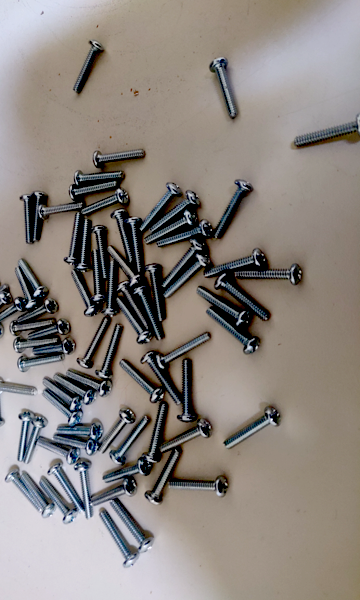longscrew: (206, 306, 260, 352), (226, 409, 283, 452), (159, 421, 216, 464), (216, 277, 270, 320), (164, 254, 210, 303), (161, 238, 206, 287), (215, 180, 252, 239), (194, 287, 249, 325), (108, 418, 153, 464), (139, 181, 180, 231), (96, 514, 134, 567), (202, 248, 269, 277), (144, 353, 181, 405), (150, 192, 199, 231), (297, 117, 360, 147), (233, 262, 300, 290), (112, 501, 151, 549), (49, 466, 86, 515), (40, 475, 77, 524), (16, 469, 53, 518), (143, 406, 175, 462), (3, 470, 40, 518), (150, 450, 181, 506), (69, 42, 101, 95), (159, 334, 212, 366), (99, 408, 135, 455), (170, 469, 230, 497), (76, 314, 106, 368), (97, 325, 127, 379), (211, 57, 237, 119), (119, 361, 160, 400), (158, 223, 212, 252), (142, 213, 196, 242), (117, 299, 150, 344), (118, 282, 151, 327), (105, 245, 141, 286), (67, 268, 97, 317), (110, 208, 137, 262), (135, 287, 163, 339), (142, 265, 168, 319), (126, 216, 152, 270), (103, 456, 153, 484), (40, 389, 80, 424), (40, 376, 80, 411), (92, 479, 140, 508), (55, 373, 95, 407), (68, 366, 108, 400), (22, 415, 48, 464), (83, 189, 129, 215), (19, 256, 46, 299), (13, 263, 36, 310), (179, 356, 195, 423), (76, 461, 94, 520), (94, 149, 148, 168), (76, 215, 92, 274), (15, 355, 63, 374), (29, 340, 77, 359), (9, 335, 57, 354), (27, 320, 75, 339), (17, 299, 58, 321), (62, 214, 80, 264), (52, 437, 100, 455), (7, 316, 55, 334), (69, 183, 122, 199), (69, 183, 121, 199), (15, 411, 31, 462), (35, 444, 80, 462), (56, 422, 103, 439), (20, 193, 35, 244), (29, 188, 44, 239), (91, 245, 103, 306), (94, 220, 106, 281), (104, 257, 116, 318), (0, 297, 26, 325), (0, 378, 38, 397), (36, 203, 87, 217), (0, 293, 10, 323), (0, 286, 5, 316), (0, 326, 6, 339)
